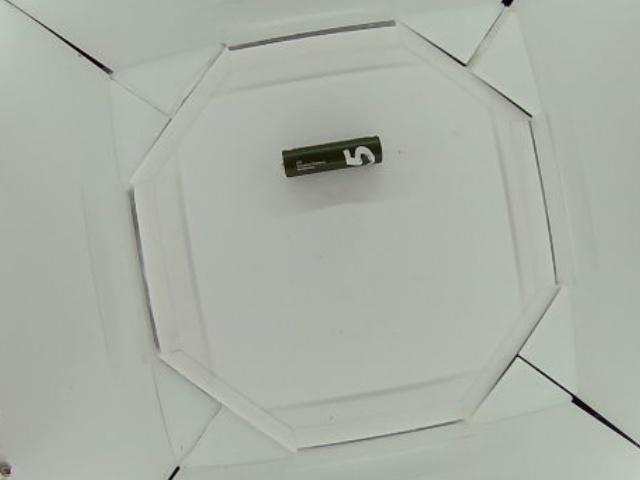Battery: (280, 134, 383, 177)
